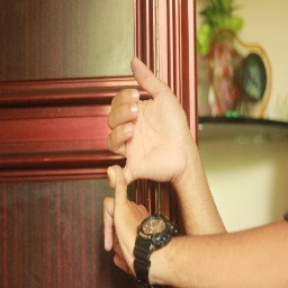S: (92, 54, 200, 283)
